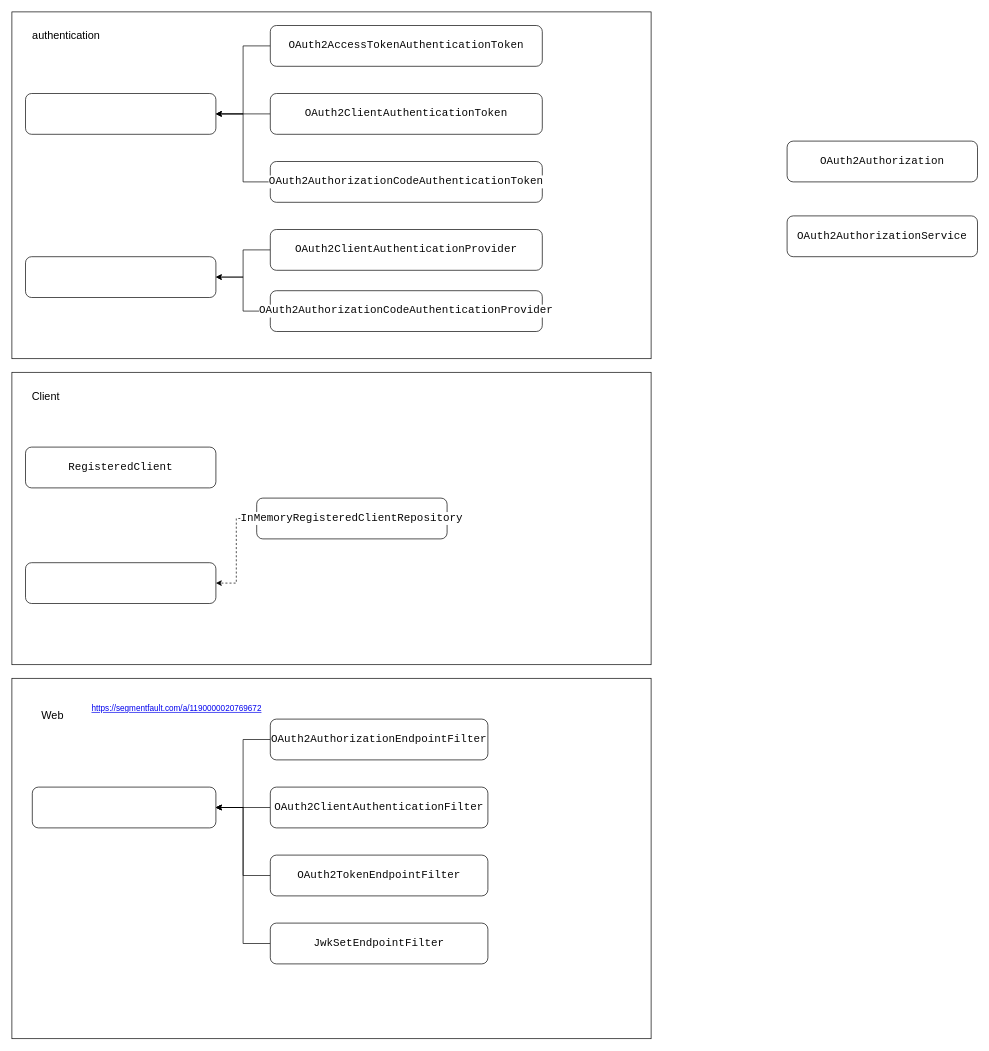
Image size: 989x1051. Some labels were removed from this diagram. Here are the shapes that lost their labels. From the top down, the centre of each, then its label:
point 120,113: AbstractAuthenticationToken
point 120,277: AuthenticationProvider
point 120,583: RegisteredClientRepository
point 124,807: OncePerRequestFilter
